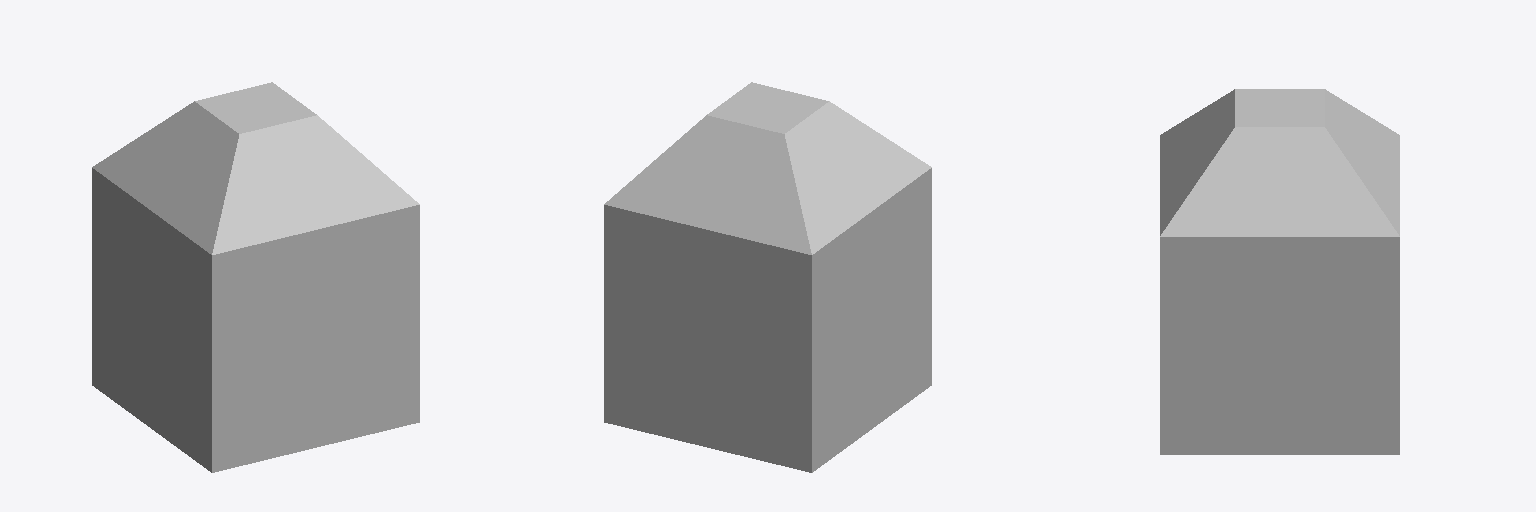
File: weirdCube.obj
3 views of the same model, side by side, from view 1: azimuth 30°, elevation 25°; view 2: azimuth 150°, elevation 25°; view 3: azimuth 270°, elevation 25° (orthographic).
Parts seen in each view (by area): view 1: Cube; view 2: Cube; view 3: Cube.
Part boxes in pixels (x1,y1,x2,y2): Cube: (92, 82, 419, 472); Cube: (604, 82, 931, 472); Cube: (1160, 89, 1399, 454).
Size of the model in its own units: 2 by 2.71 by 2.